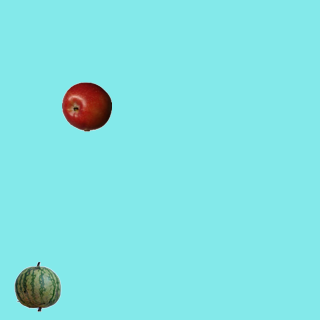Apple Braeburn: (61, 81, 111, 131)
Watermelon: (12, 261, 62, 311)
